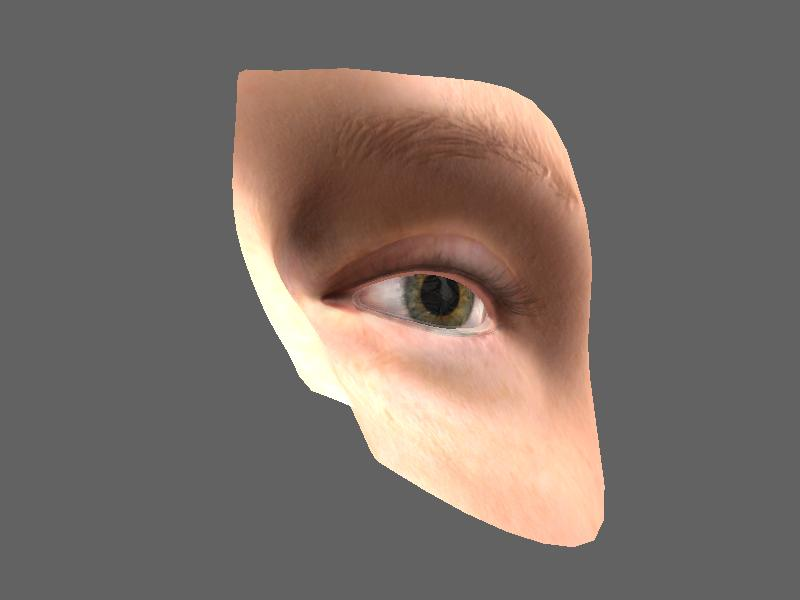iris: (399, 277, 477, 327)
